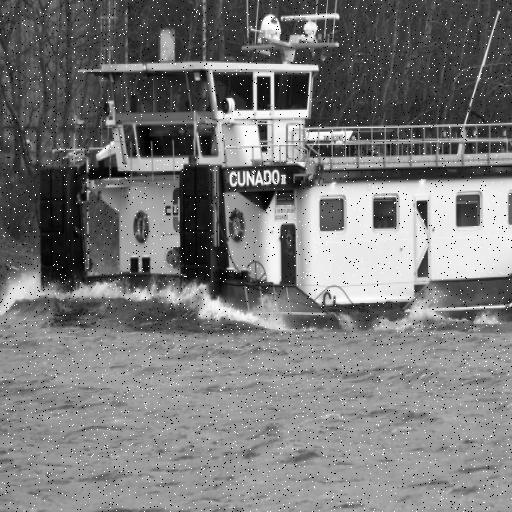tugboat: (36, 7, 512, 346)
